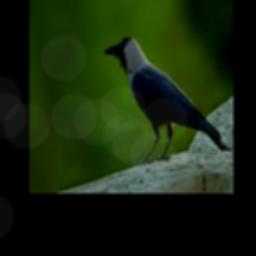Crow: (103, 37, 230, 162)
